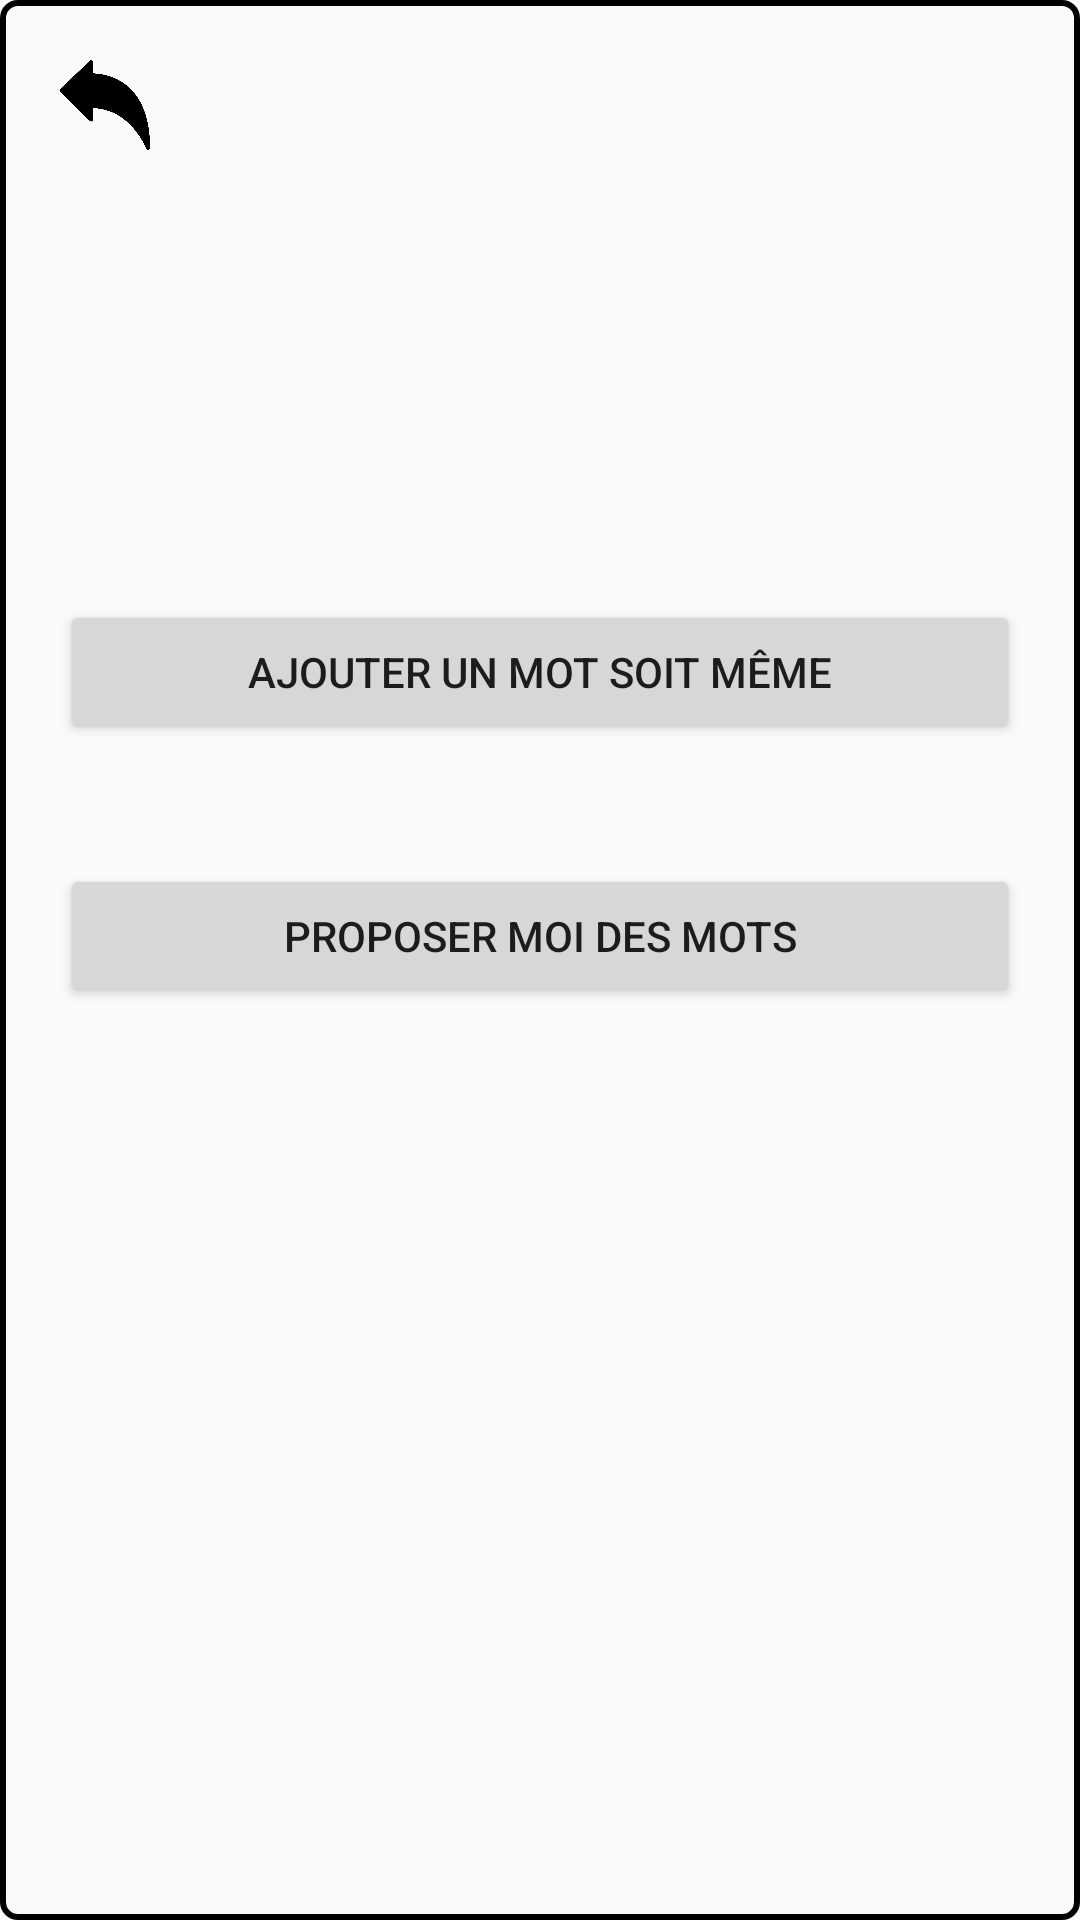

Named icons in this screenshot (1080px×1920px) and their centers, point (x, y):
back arrow: point (105, 105)
